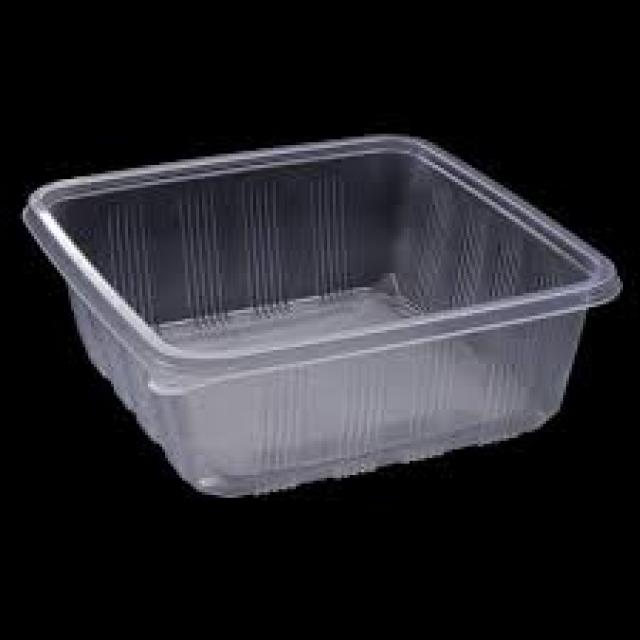disposable: (36, 117, 623, 512)
